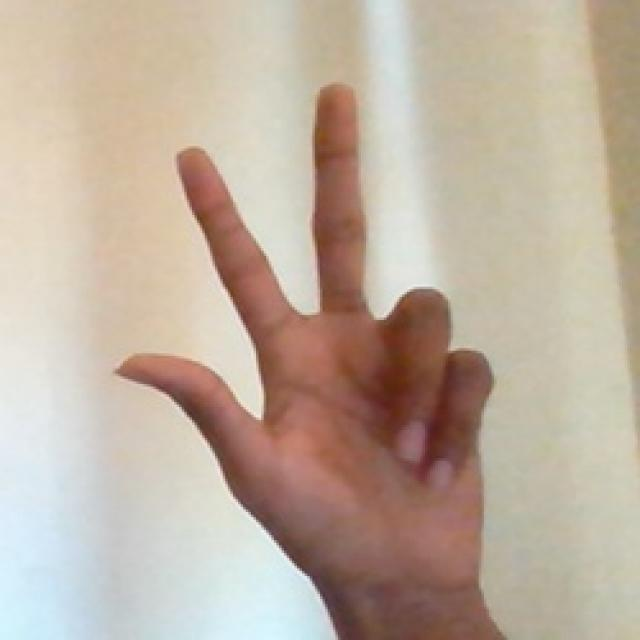Numeric-3: (132, 85, 488, 591)
